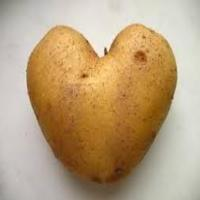biodegradable: (26, 23, 178, 184)
